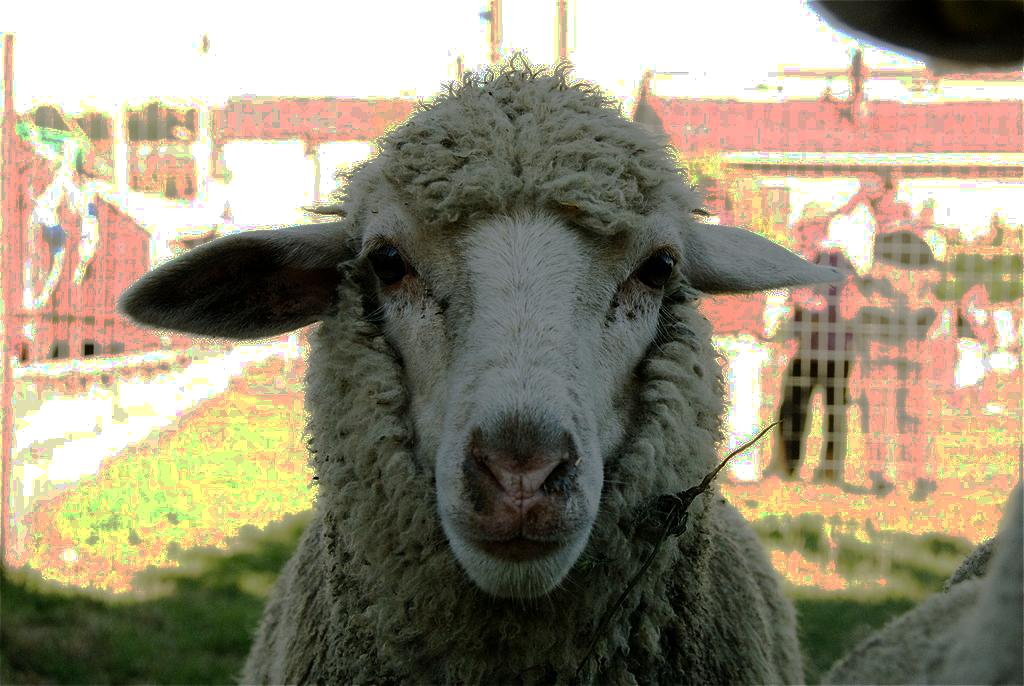Sheep: (111, 51, 848, 685)
